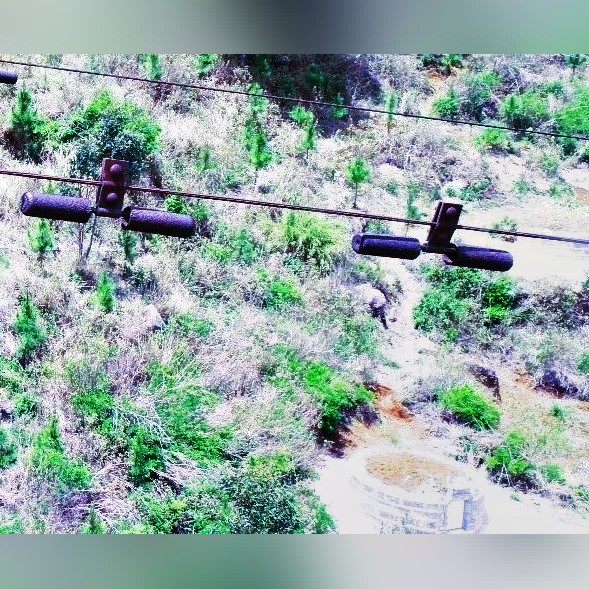Shockproof hammer: (15, 156, 202, 243), (343, 194, 519, 276)
